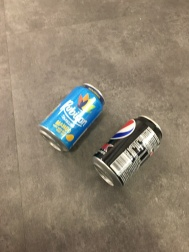can_black: (91, 104, 165, 200)
can_blue: (31, 68, 110, 158)
